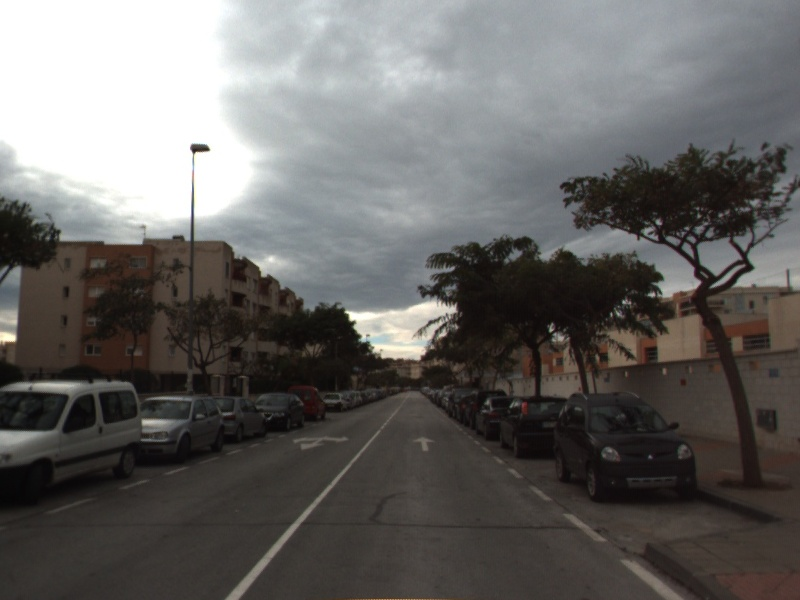STRAIGHT: (411, 434, 437, 453)
